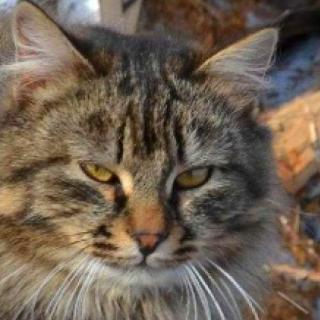cat: (2, 0, 277, 282)
nose: (122, 208, 178, 257)
